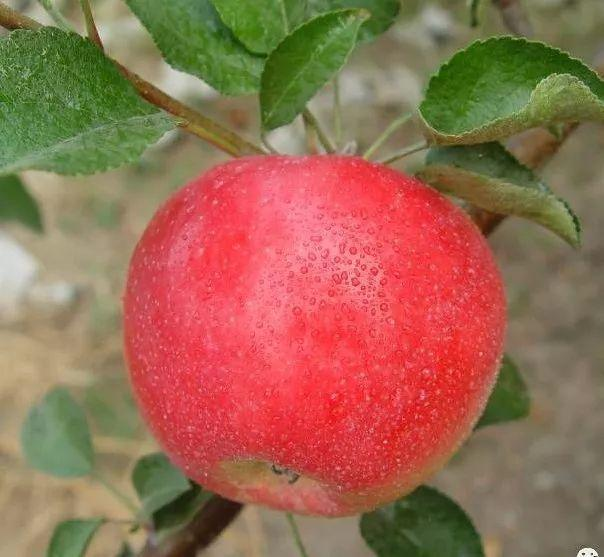apple: (125, 148, 506, 516)
